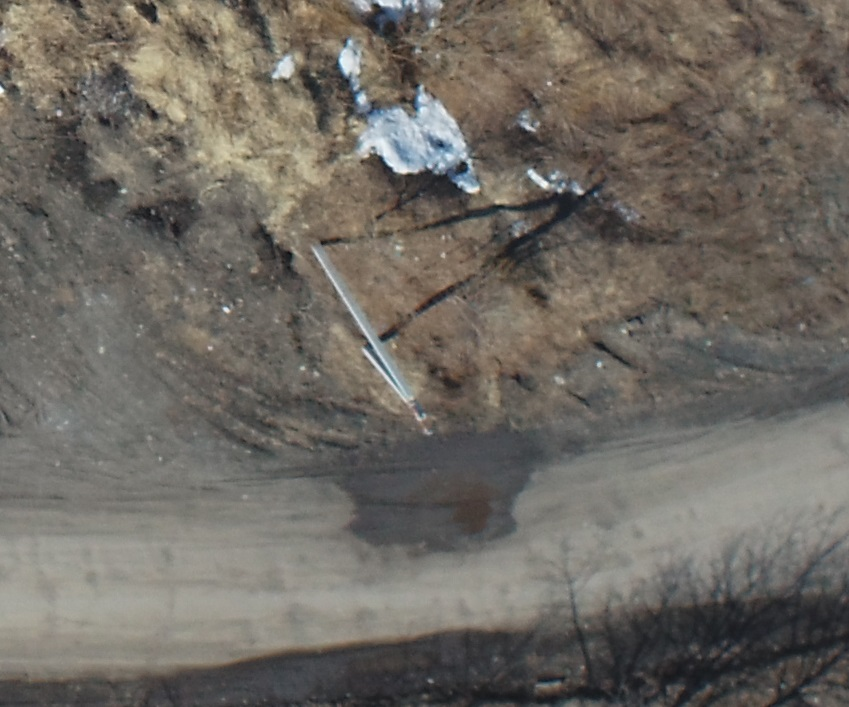opora: (305, 226, 471, 443)
